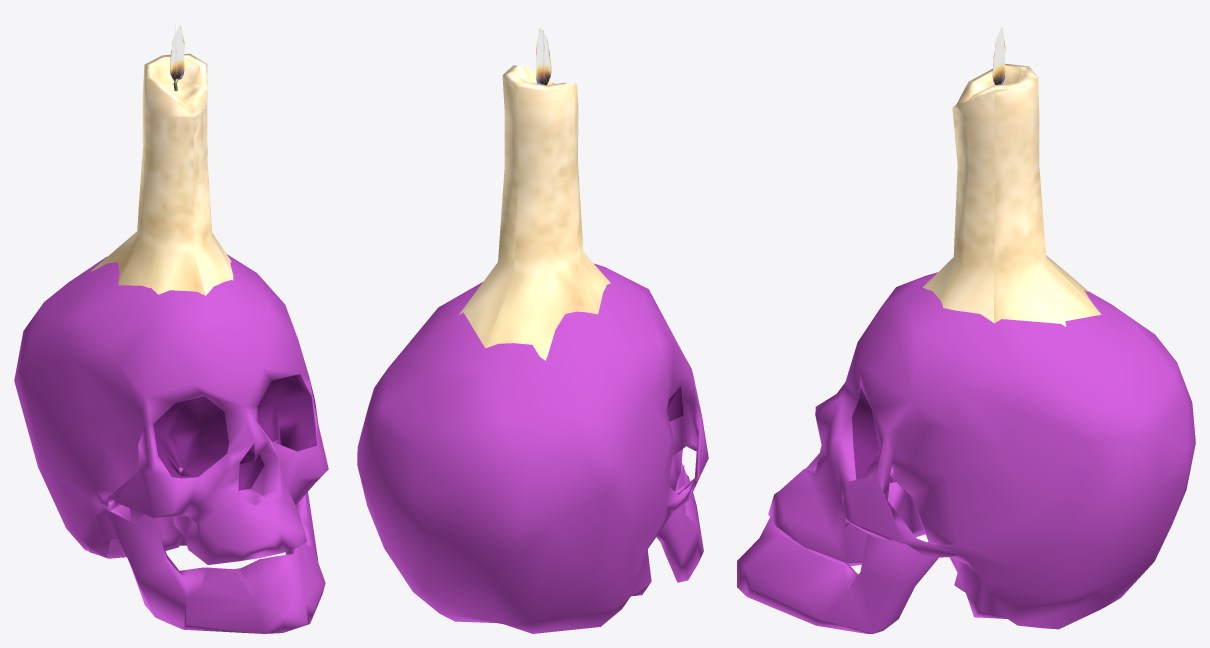
Rendered from CandleSkullShapeA.008.glb.
3 views of the same model, side by side, from view 1: azimuth 30°, elevation 25°; view 2: azimuth 150°, elevation 25°; view 3: azimuth 270°, elevation 25° (orthographic). The views are drawn at different scales.
Visible parts, largest first — view 1: CandleSkullShapeA.008; view 2: CandleSkullShapeA.008; view 3: CandleSkullShapeA.008.
Part boxes in pixels (x1,y1,x2,y2): CandleSkullShapeA.008: (14, 25, 328, 633); CandleSkullShapeA.008: (357, 28, 708, 633); CandleSkullShapeA.008: (737, 27, 1195, 633).
Size of the model in its own units: 0.2005 by 0.4386 by 0.3132.
Materials: 2 (2 with a texture image).
